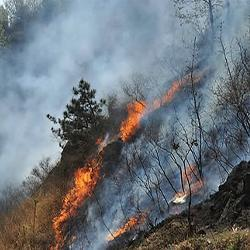fire: (76, 167, 93, 201), (123, 103, 142, 132), (115, 216, 134, 233)
smoke: (53, 3, 140, 58), (3, 64, 51, 152)
